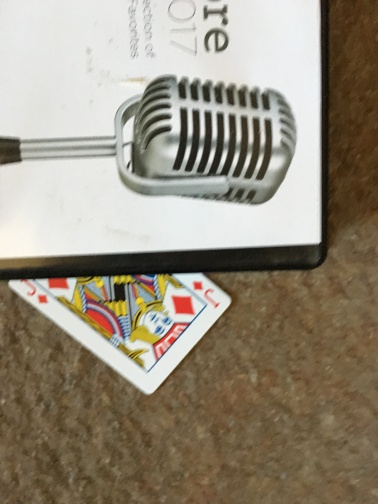jack: (7, 268, 232, 396)
